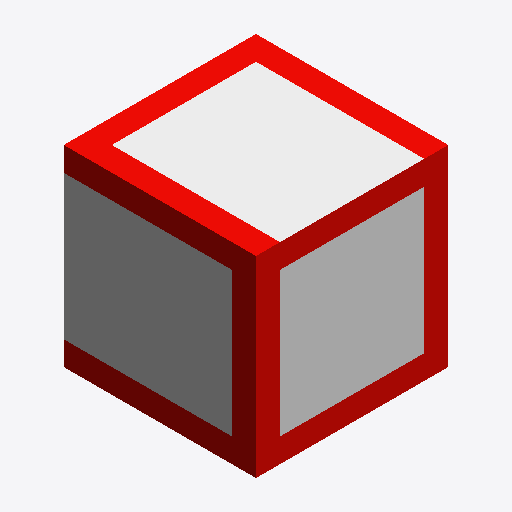
A Minecraft block model of 6 cuboids, rendered isometrically (azimuth 45°, elevation 35.3°) with the resource pack's own textures.
Parts seen in each view (by area): element 2, element 4, element 6.
Boxes of the visible parts, box(x1,y1,x2,y2) form: element 2: box(65, 34, 446, 255); element 4: box(256, 145, 447, 477); element 6: box(64, 145, 255, 477).
Size of the model in its own units: 16 by 16 by 16.